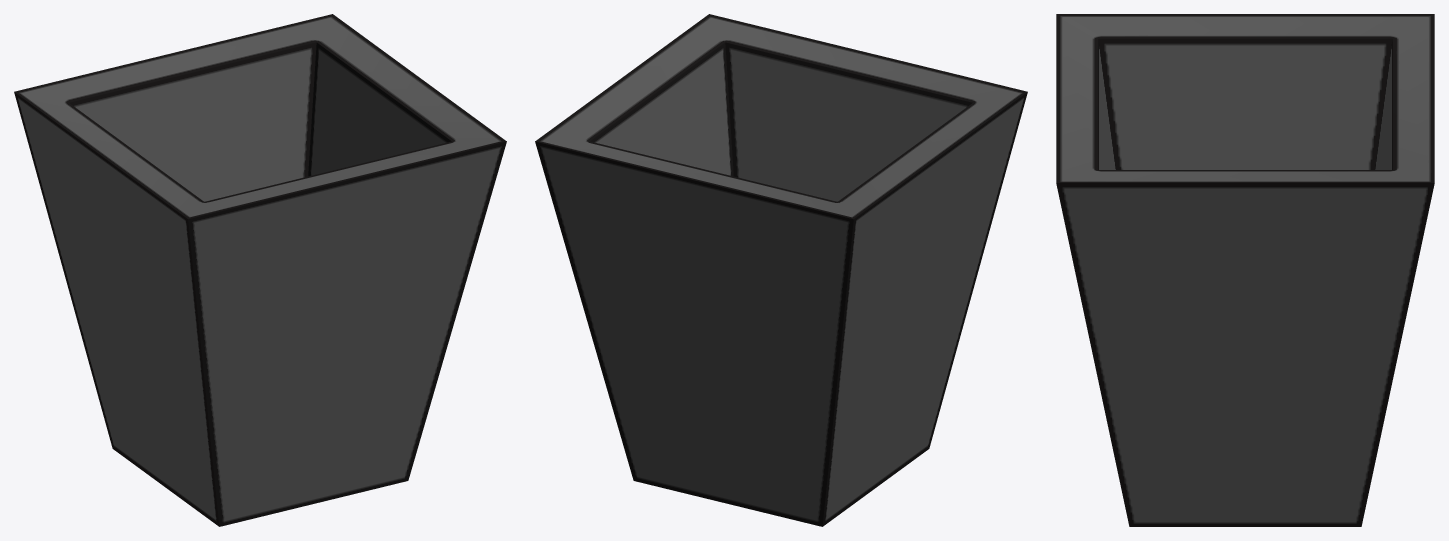
Rendered from where_I_should_be.fbx.
3 renders of one model, left to right at view 1: azimuth 30°, elevation 25°; view 2: azimuth 150°, elevation 25°; view 3: azimuth 270°, elevation 25°, orthographic. The views are drawn at different scales.
Visible parts, largest first — view 1: obj1; view 2: obj1; view 3: obj1.
Boxes of the visible parts, box(x1,y1,x2,y2) form: obj1: box(14, 14, 506, 526); obj1: box(535, 14, 1027, 526); obj1: box(1056, 14, 1434, 526).
Bounding box in the file's own units: 0.2894 × 0.3021 × 0.2739.
Materials: 1 (1 with a texture image).
